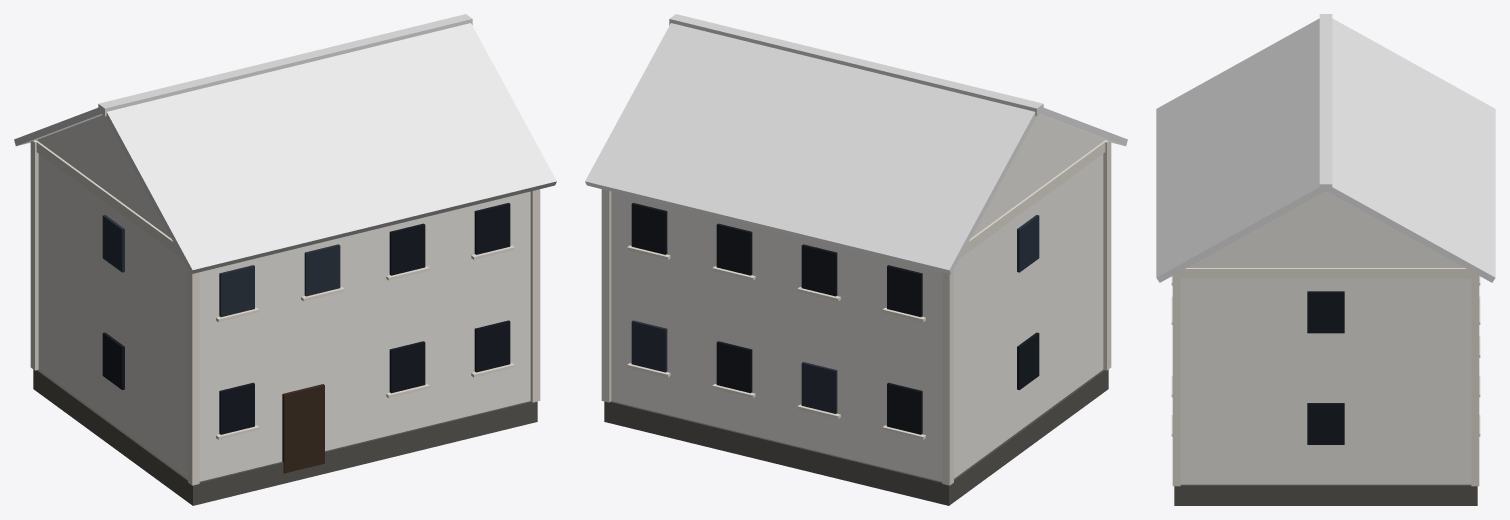
File: shed.glb
The picture shows the model from 3 angles, left to right: view 1: azimuth 30°, elevation 25°; view 2: azimuth 150°, elevation 25°; view 3: azimuth 270°, elevation 25°; orthographic projection. The views are drawn at different scales.
Visible parts, largest first — view 1: Walls, Roof, Windows, Plinth, Trim, Gables, Door; view 2: Walls, Roof, Windows, Plinth, Trim, Gables; view 3: Roof, Walls, Gables, Trim, Plinth, Windows.
Part boxes in pixels (<box>): Walls: <box>38,154,530,481</box>; Roof: <box>14,14,556,274</box>; Windows: <box>102,203,510,434</box>; Plinth: <box>33,369,537,505</box>; Trim: <box>30,140,540,485</box>; Gables: <box>37,115,170,237</box>; Door: <box>282,384,324,473</box>; Walls: <box>611,154,1103,481</box>; Roof: <box>585,14,1127,274</box>; Windows: <box>631,203,1039,434</box>; Plinth: <box>604,369,1108,505</box>; Trim: <box>601,140,1111,485</box>; Gables: <box>971,115,1104,237</box>; Roof: <box>1156,14,1495,282</box>; Walls: <box>1180,278,1471,484</box>; Gables: <box>1187,192,1464,267</box>; Trim: <box>1171,268,1480,486</box>; Plinth: <box>1174,484,1477,505</box>; Windows: <box>1307,291,1344,444</box>.
Size of the model in its own units: 10.8 by 9.66 by 9.09.
